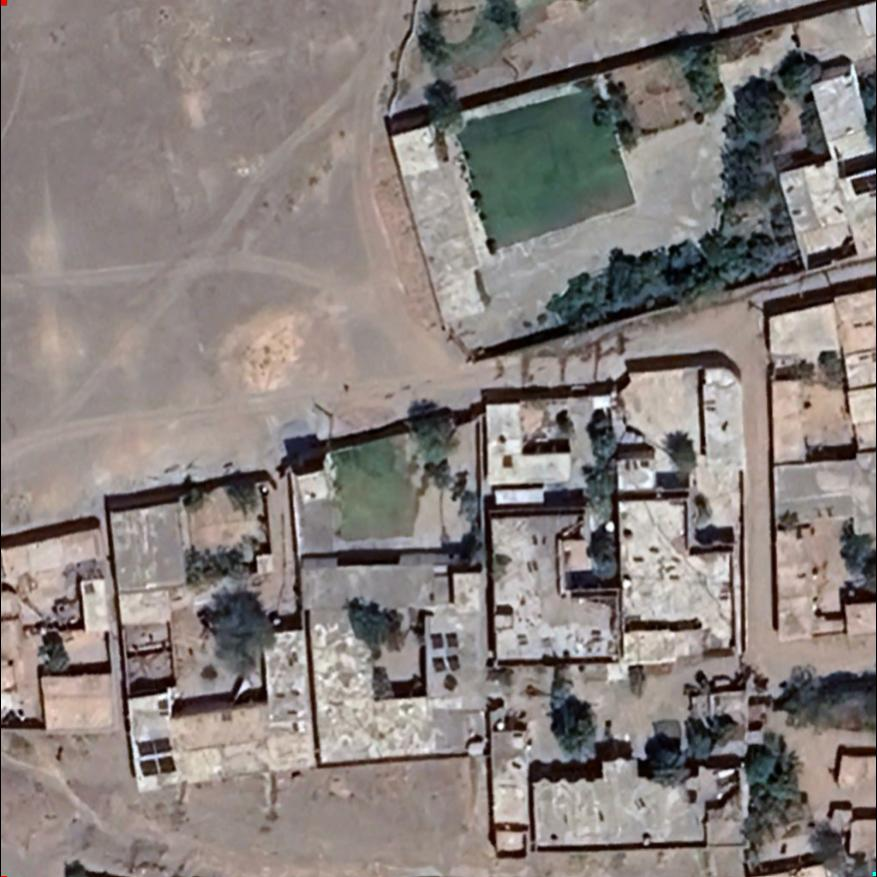Solarpanel: (427, 626, 469, 691), (131, 734, 184, 783)
